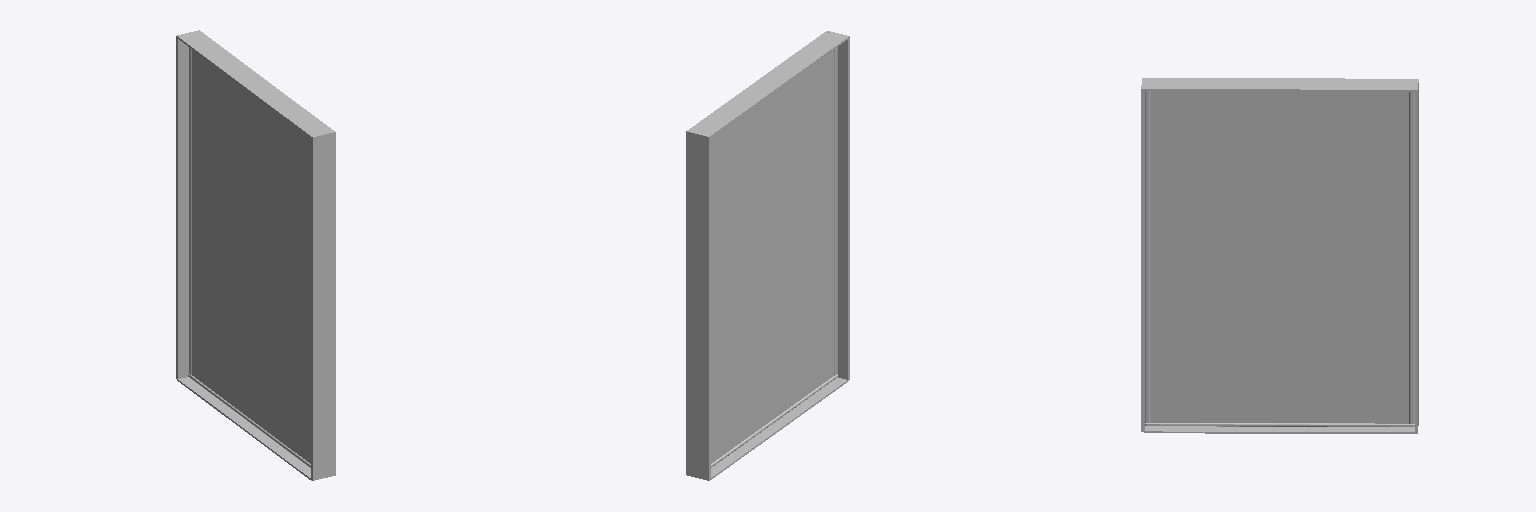
Rendered from Ventana11.obj.
3 renders of one model, left to right at view 1: azimuth 30°, elevation 25°; view 2: azimuth 150°, elevation 25°; view 3: azimuth 270°, elevation 25°, orthographic.
Visible parts, largest first — view 1: polySurface83; view 2: polySurface83; view 3: polySurface83.
Boxes of the visible parts, x1,y1,x2,y2 form: polySurface83: [176, 30, 335, 480]; polySurface83: [686, 31, 849, 480]; polySurface83: [1141, 78, 1418, 433].
Size of the model in its own units: 0.148 by 1.94 by 1.42.